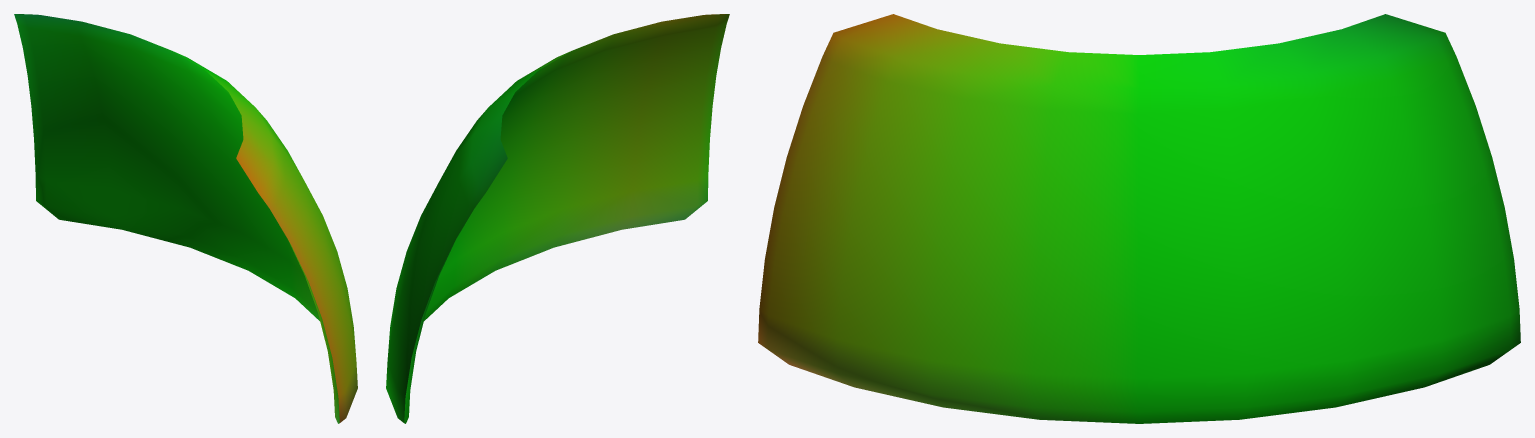
File: uni_shield_dir.fbx
The picture shows the model from 3 angles, left to right: view 1: azimuth 30°, elevation 25°; view 2: azimuth 150°, elevation 25°; view 3: azimuth 270°, elevation 25°; orthographic projection. The views are drawn at different scales.
Visible parts, largest first — view 1: uni_shield_dir; view 2: uni_shield_dir; view 3: uni_shield_dir.
Boxes of the visible parts, x1,y1,x2,y2 form: uni_shield_dir: [14, 14, 357, 423]; uni_shield_dir: [386, 14, 729, 423]; uni_shield_dir: [758, 14, 1520, 423].
Size of the model in its own units: 17890 by 5603 by 8120.
